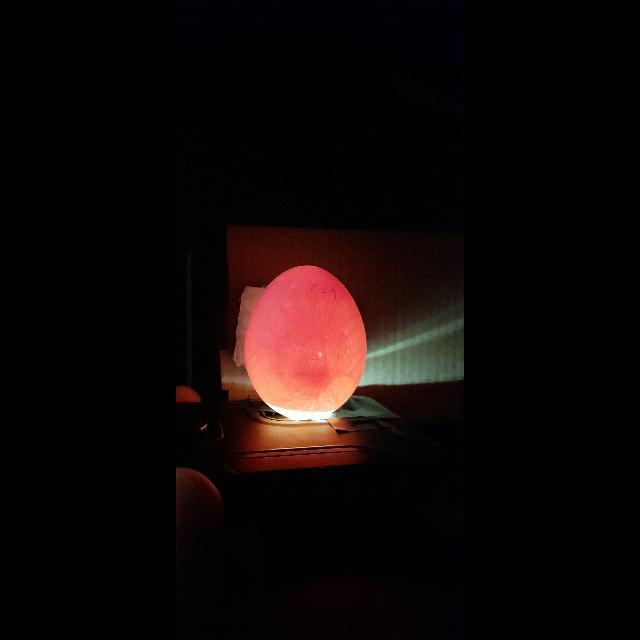Fertile: (240, 266, 366, 420)
